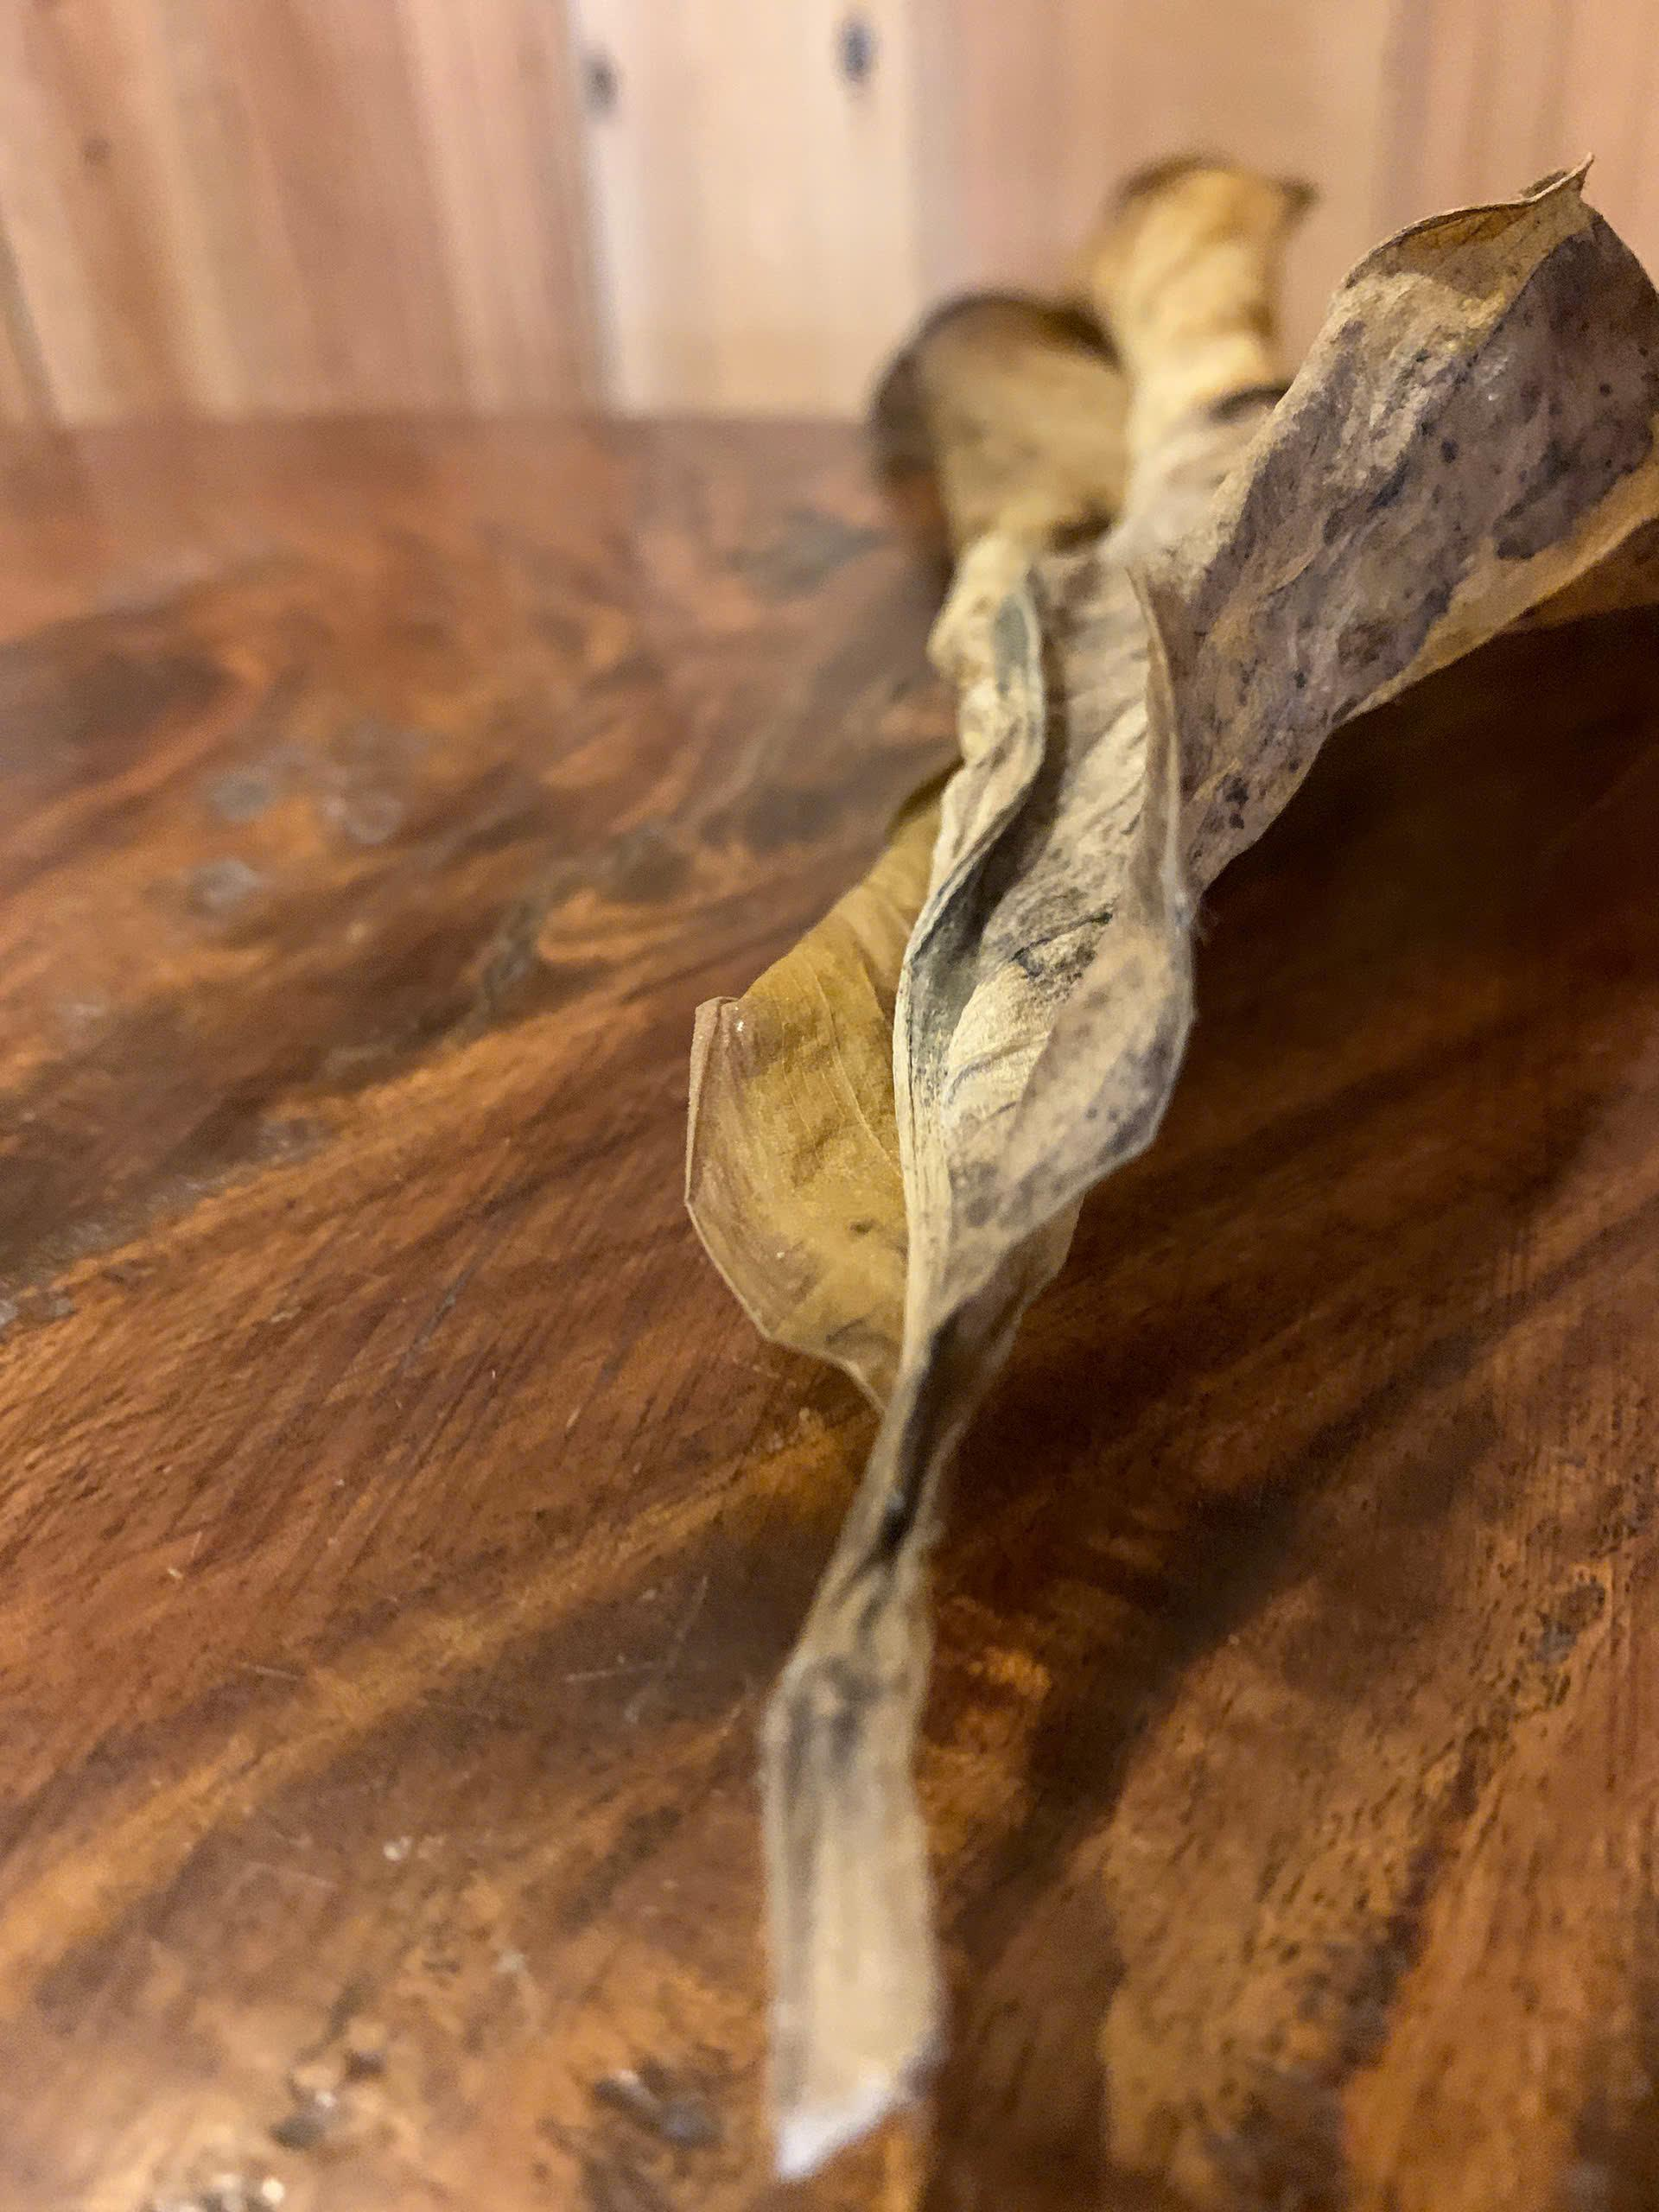Huu co: (687, 143, 1659, 2144)
